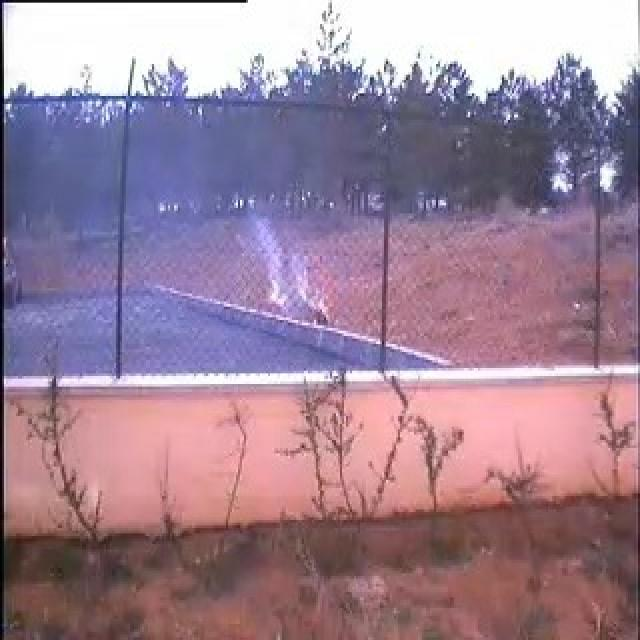smoke: (126, 180, 312, 385)
